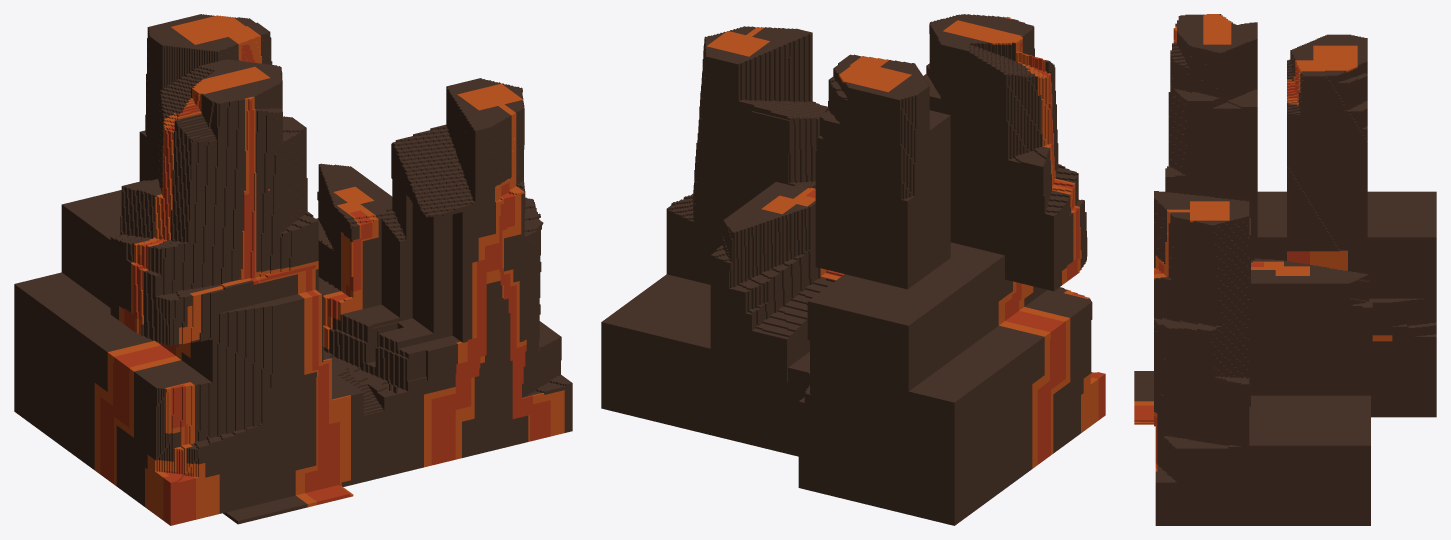
The model's file is Lava cave 1.obj.
3 views of the same model, side by side, from view 1: azimuth 30°, elevation 25°; view 2: azimuth 150°, elevation 25°; view 3: azimuth 270°, elevation 25° (orthographic). The views are drawn at different scales.
Size of the model in its own units: 25.6 by 24.2 by 18.4.
Materials: 1 (1 with a texture image).
